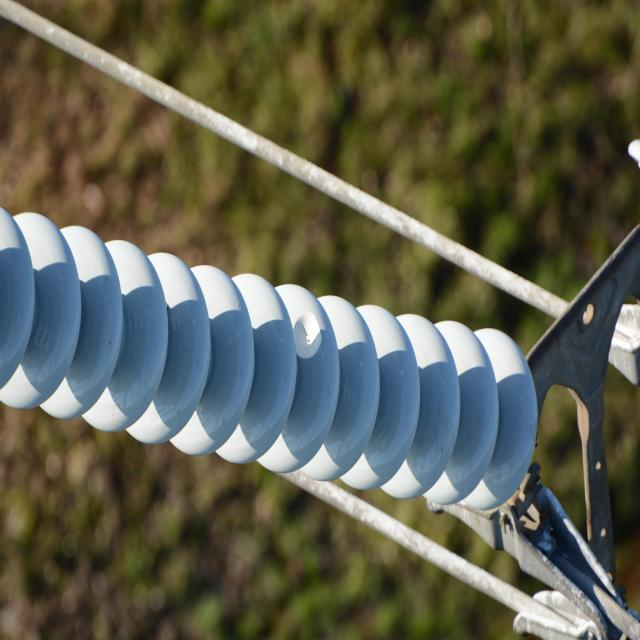broken: (290, 308, 322, 362)
insulator: (0, 205, 537, 508)
